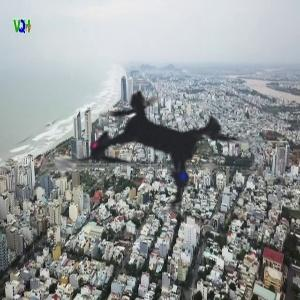drone: (12, 5, 296, 289)
